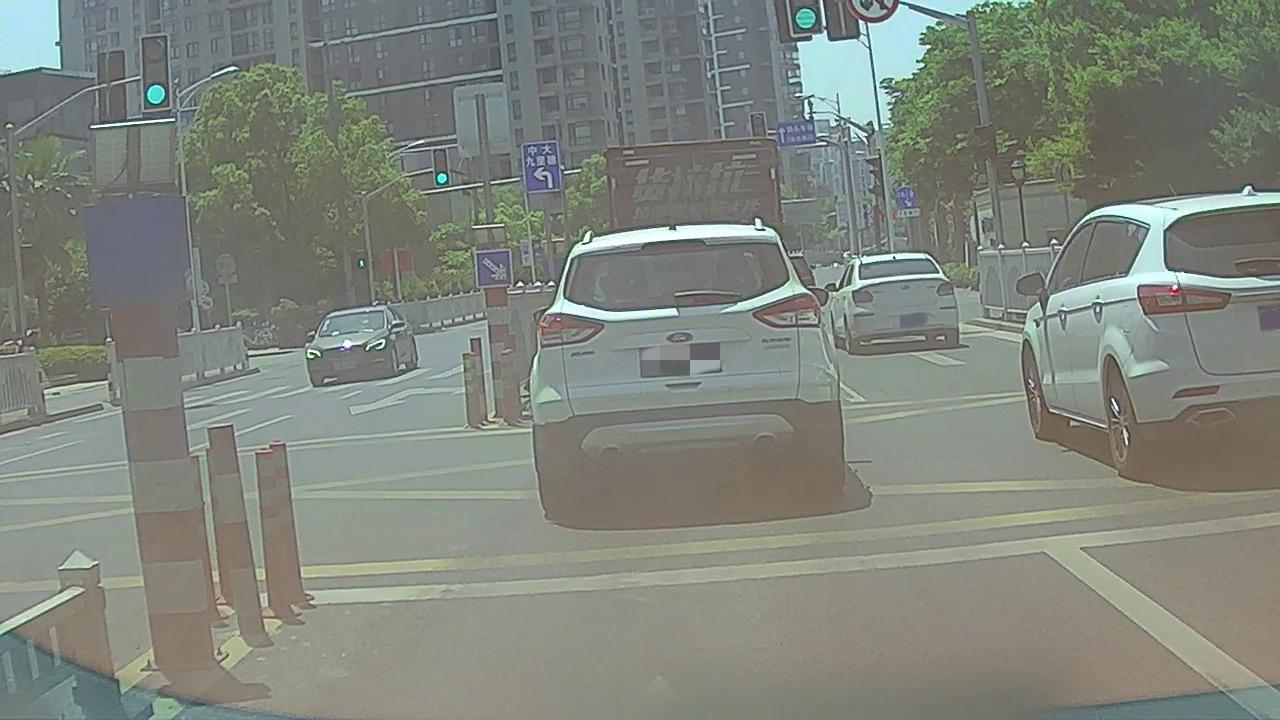traffic_light: (141, 37, 169, 116), (788, 1, 823, 37), (433, 150, 448, 187), (751, 114, 764, 137)
